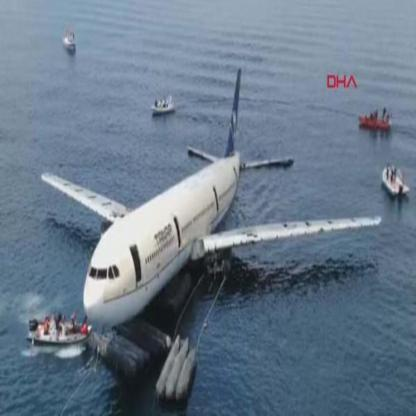CIV_Plane: (35, 63, 382, 339)
